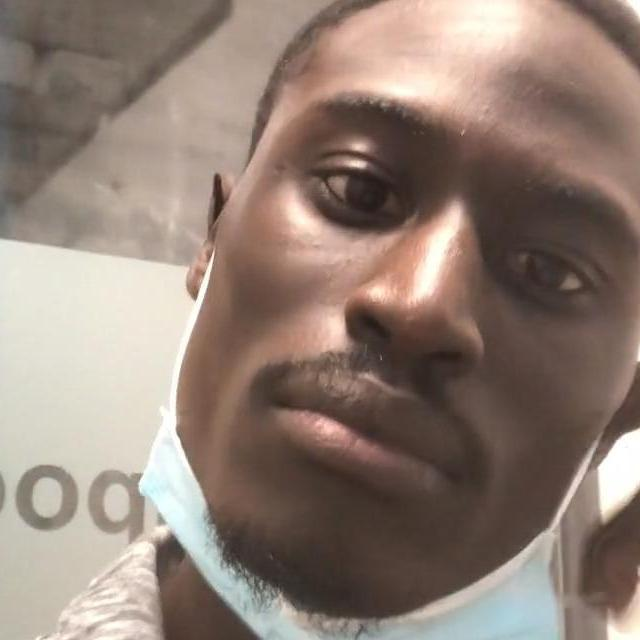NO-Hardhat: (272, 0, 640, 143)
NO-Mask: (181, 261, 630, 608)
Person: (0, 0, 640, 640)
